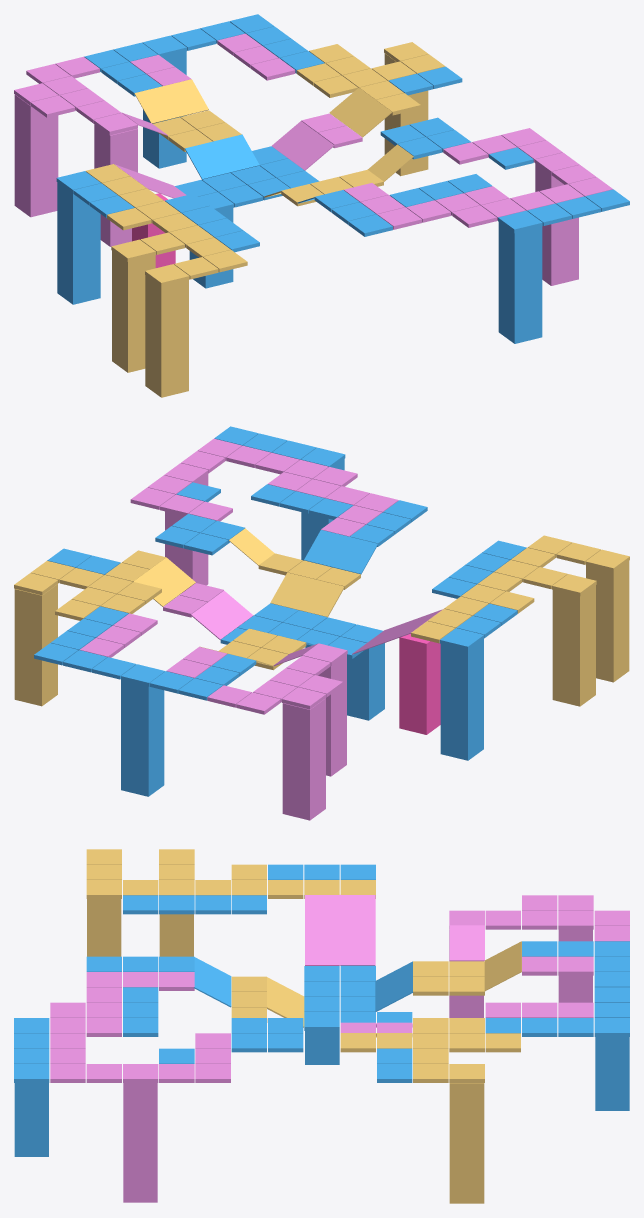
File: SCEEN-final.fbx
The picture shows the model from 3 angles, top to bottom: view 1: azimuth 30°, elevation 25°; view 2: azimuth 150°, elevation 25°; view 3: azimuth 270°, elevation 25°; orthographic projection. The views are drawn at different scales.
Visible parts, largest first — view 1: pillar_6, pillar_1, pillar_11, pillar_4, pillar, pillar_7, pillar_3, plat_8, plat_5, plat_4, plat_6, pillar_10 (+56 smaller); view 2: pillar_11, pillar_4, pillar, pillar_10, pillar_9, pillar_1, pillar_2, pillar_5, pillar_3, plat_7, plat_3, plat_6 (+55 smaller); view 3: plat_1, pillar_9, pillar_7, pillar_6, pillar_10, pillar_1, pillar, pillar_11, plat, plat_3, plat_8, plat_5 (+104 smaller).
Boxes of the visible parts, x1=… form: pillar_6: x1=498, y1=222, x2=542, y2=343; pillar_1: x1=145, y1=275, x2=188, y2=397; pillar_11: x1=14, y1=94, x2=58, y2=217; pillar_4: x1=57, y1=182, x2=100, y2=304; pillar: x1=112, y1=251, x2=155, y2=372; pillar_7: x1=535, y1=163, x2=578, y2=285; pillar_3: x1=94, y1=124, x2=137, y2=246; plat_8: x1=185, y1=134, x2=259, y2=179; plat_5: x1=134, y1=79, x2=208, y2=123; plat_4: x1=329, y1=88, x2=392, y2=137; plat_6: x1=272, y1=121, x2=334, y2=170; pillar_10: x1=143, y1=51, x2=186, y2=168; pillar_11: x1=282, y1=698, x2=325, y2=820; pillar_4: x1=440, y1=639, x2=483, y2=760; pillar: x1=552, y1=585, x2=595, y2=706; pillar_10: x1=121, y1=680, x2=164, y2=796; pillar_9: x1=14, y1=584, x2=57, y2=706; pillar_1: x1=586, y1=561, x2=629, y2=682; pillar_2: x1=399, y1=633, x2=440, y2=734; pillar_5: x1=347, y1=643, x2=384, y2=720; pillar_3: x1=318, y1=654, x2=346, y2=776; plat_7: x1=270, y1=572, x2=344, y2=617; plat_3: x1=304, y1=530, x2=377, y2=574; plat_6: x1=191, y1=590, x2=253, y2=639; plat_1: x1=305, y1=894, x2=375, y2=965; pillar_9: x1=449, y1=1083, x2=484, y2=1203; pillar_7: x1=123, y1=1083, x2=157, y2=1202; pillar_6: x1=14, y1=1083, x2=48, y2=1156; pillar_10: x1=595, y1=1037, x2=629, y2=1110; pillar_1: x1=87, y1=899, x2=121, y2=956; pillar: x1=159, y1=914, x2=193, y2=956; pillar_11: x1=558, y1=929, x2=592, y2=1002; plat: x1=449, y1=925, x2=484, y2=960; plat_3: x1=194, y1=957, x2=231, y2=1007; plat_8: x1=375, y1=961, x2=413, y2=1011; plat_5: x1=484, y1=941, x2=521, y2=991.
Size of the model in its own units: 1228 by 312 by 1392.
